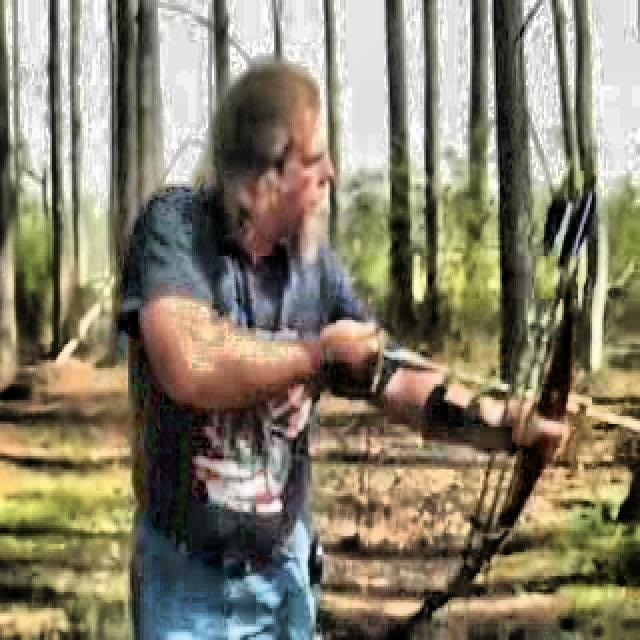I: (96, 57, 589, 640)
